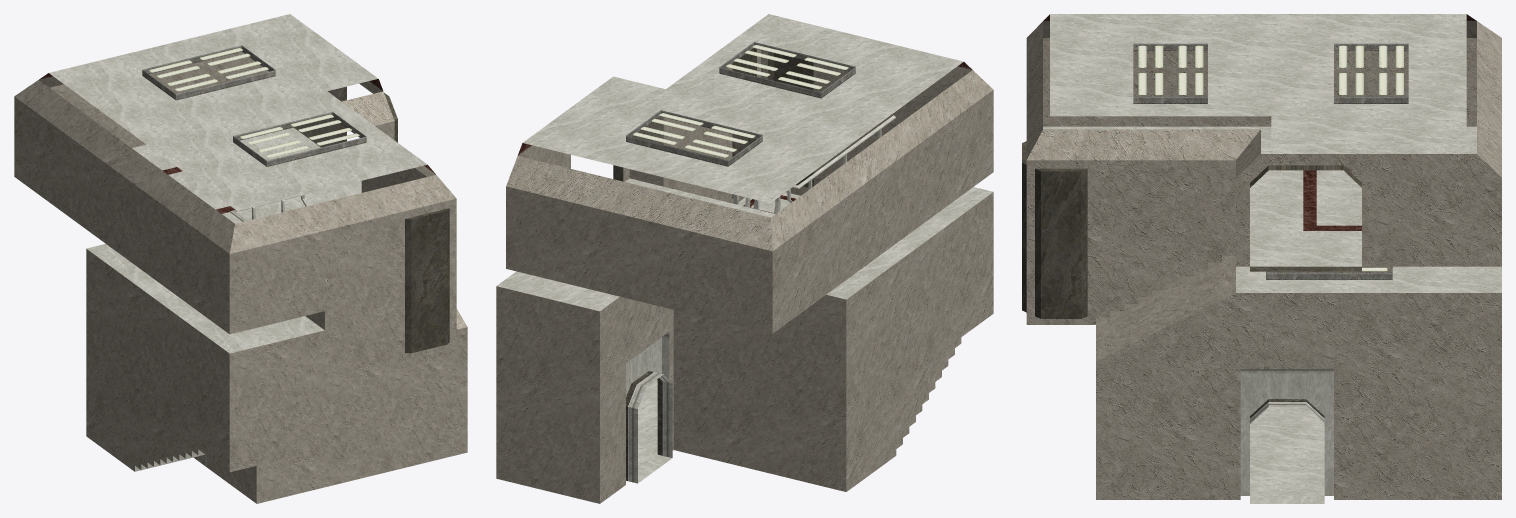
File: thm_nboo_assoc_hall_civ_s01_r6_stairwellb_mesh_stairwellb.fbx
3 renders of one model, left to right at view 1: azimuth 30°, elevation 25°; view 2: azimuth 150°, elevation 25°; view 3: azimuth 270°, elevation 25°, orthographic. The views are drawn at different scales.
Parts seen in each view (by area): view 1: mesh_node; view 2: mesh_node; view 3: mesh_node.
Boxes of the visible parts, x1,y1,x2,y2 form: mesh_node: [14, 14, 467, 503]; mesh_node: [496, 14, 993, 503]; mesh_node: [1022, 14, 1501, 503].
Bounding box in the file's own units: 9.45 × 10.58 × 12.86.
